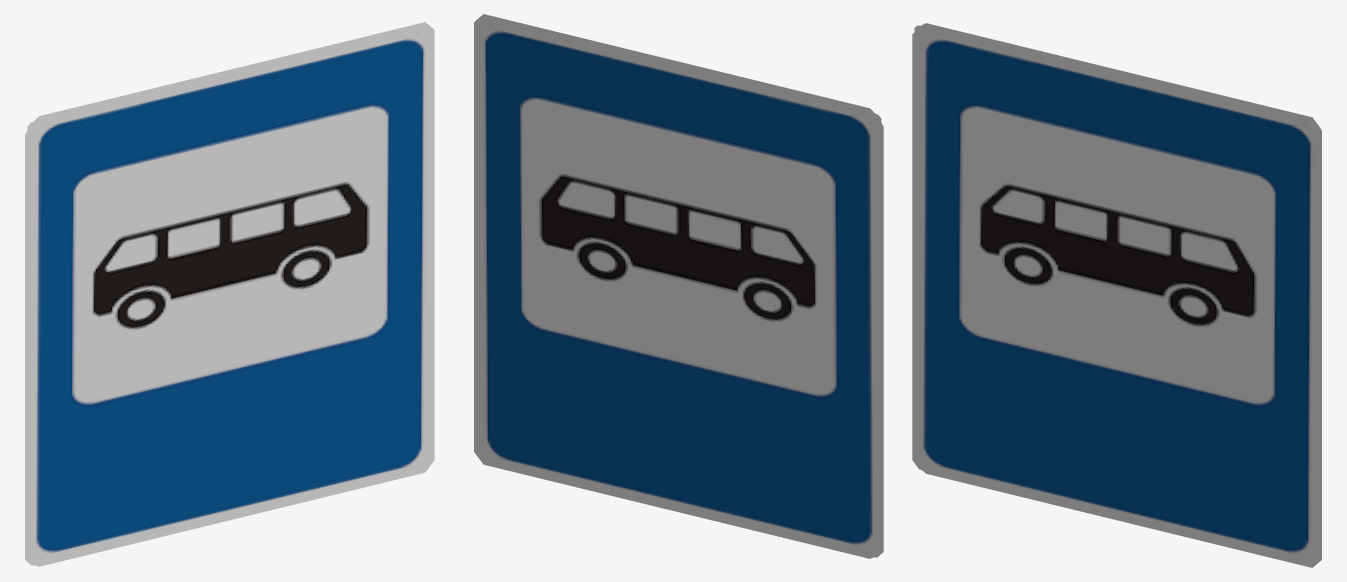
File: SM_Road_Sign_012.fbx
3 renders of one model, left to right at view 1: azimuth 30°, elevation 25°; view 2: azimuth 150°, elevation 25°; view 3: azimuth 330°, elevation 25°, orthographic.
Visible parts, largest first — view 1: SM_Road_Sign_012; view 2: SM_Road_Sign_012; view 3: SM_Road_Sign_012.
Boxes of the visible parts, x1,y1,x2,y2 form: SM_Road_Sign_012: (25, 22, 434, 566); SM_Road_Sign_012: (474, 14, 883, 558); SM_Road_Sign_012: (912, 23, 1321, 567).
Size of the model in its own units: 40.95 by 43.04 by 1.89.
